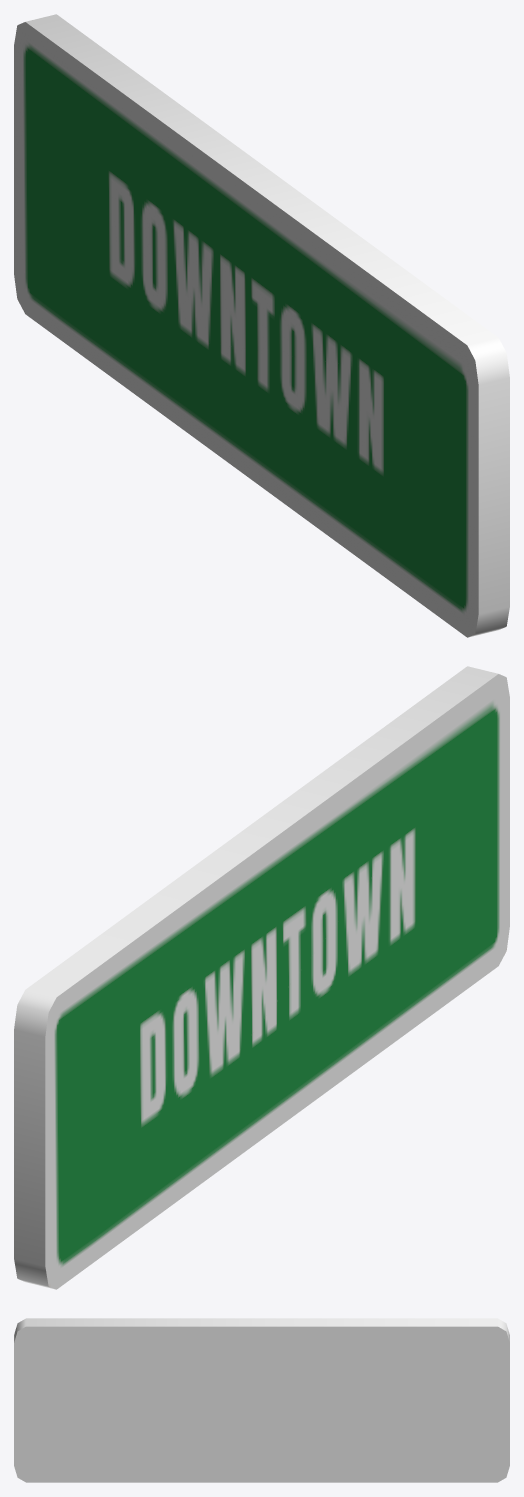
File: Sign_18.glb
3 views of the same model, one above another, from view 1: azimuth 30°, elevation 25°; view 2: azimuth 150°, elevation 25°; view 3: azimuth 270°, elevation 25° (orthographic). The views are drawn at different scales.
Parts seen in each view (by area): view 1: Sign_18; view 2: Sign_18; view 3: Sign_18.
Part boxes in pixels (x1,y1,x2,y2): Sign_18: (14,14,509,637); Sign_18: (14,666,509,1289); Sign_18: (14,1318,509,1482).
Bounding box in the file's own units: 0.0906 × 0.8076 × 2.33.
Materials: 1 (1 with a texture image).
